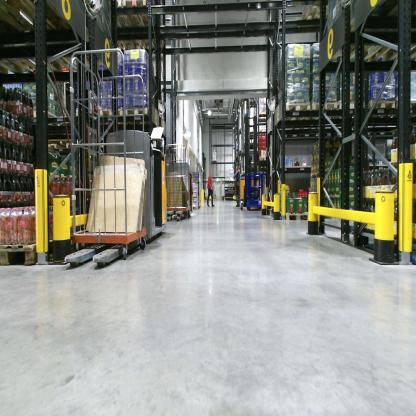forklift: (235, 96, 263, 209)
pallet: (4, 34, 73, 78), (2, 1, 70, 43), (332, 23, 395, 68), (59, 29, 102, 76), (373, 23, 416, 67), (1, 238, 63, 266), (121, 1, 160, 35), (1, 42, 30, 80), (309, 97, 339, 126), (105, 1, 133, 32), (299, 3, 331, 29), (137, 25, 164, 55), (279, 100, 309, 125), (114, 34, 146, 57), (367, 99, 397, 122), (61, 142, 100, 158), (27, 108, 59, 125), (338, 101, 366, 118), (279, 213, 310, 225), (122, 104, 151, 116), (97, 104, 121, 117), (404, 100, 415, 116), (43, 144, 59, 154)
pallet_truck: (65, 83, 173, 269), (163, 134, 193, 218)
